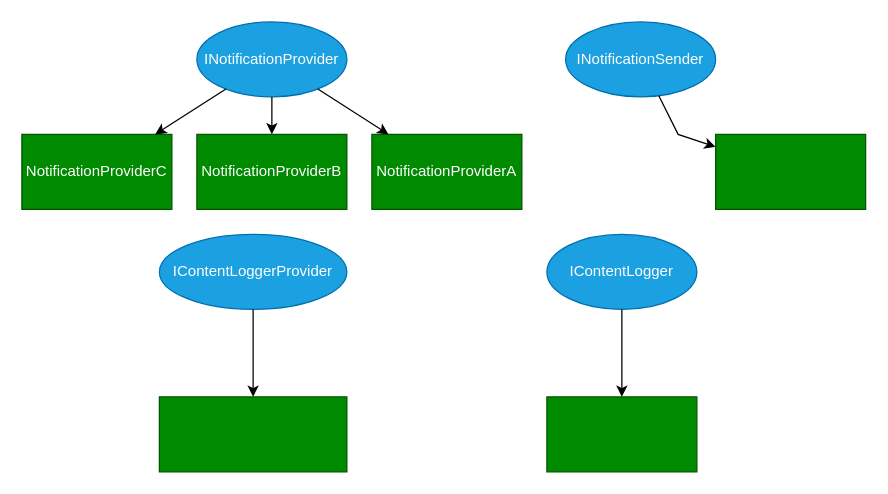
The diagram is 888 pixels wide and 494 high, and some of its shapes have lost their labels. The shapes that lost their labels are listed below. From the top down, each one's centre as x and y in pixels, then its label:
the point at 790,171: NotificationSender
the point at 252,434: ConsoleLoggerProvider
the point at 621,434: ContentLogger
